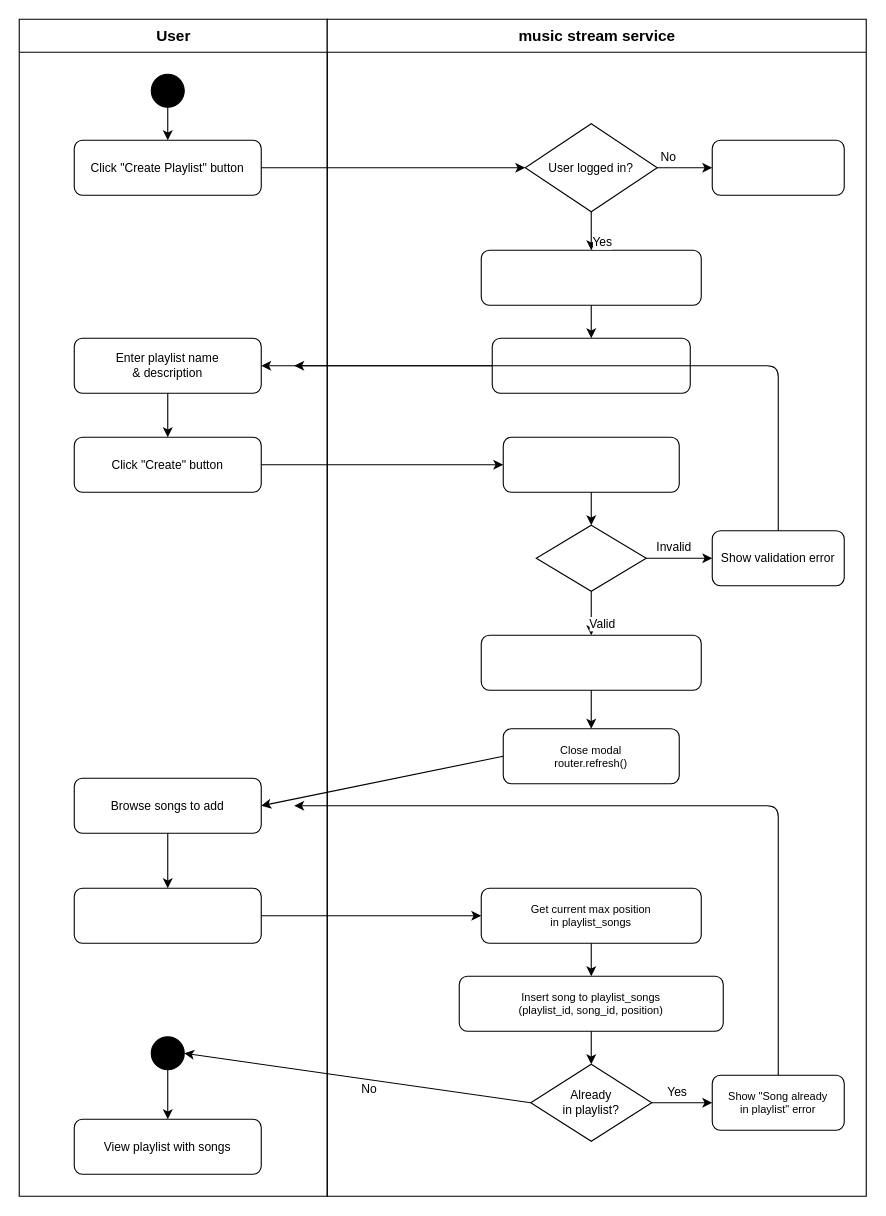
Image size: 886x1216. Some labels were removed from this diagram. Here are the shapes that lost their labels. From the top down, the centre of each, then its label:
(777,167): Show Auth Modal
(590,277): Open PlaylistModal (usePlaylistModal.onOpen)
(590,365): Display create playlist form
(590,464): Validate input (react-hook-form)
(590,557): Valid?
(590,662): Insert playlist to Supabase (playlists table)
(167,915): Click "Add to Playlist" button
